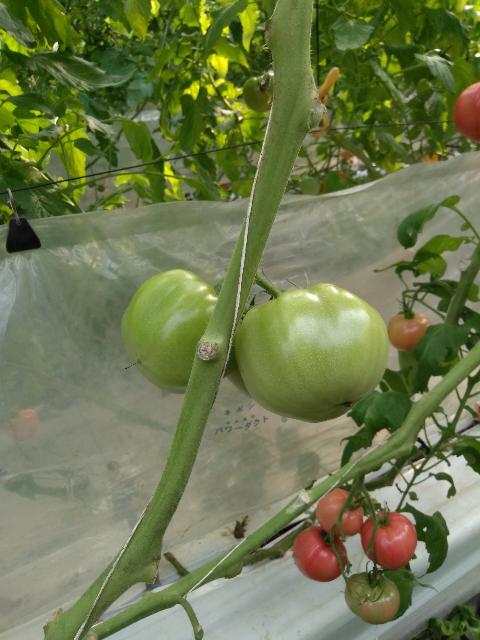b_fully_ripened: (360, 512, 418, 571), (292, 526, 347, 582), (453, 82, 480, 143)
b_green: (236, 283, 389, 424), (121, 269, 242, 394), (241, 70, 274, 113)
b_half_ripened: (344, 572, 400, 625), (316, 488, 364, 537), (387, 313, 431, 352)
